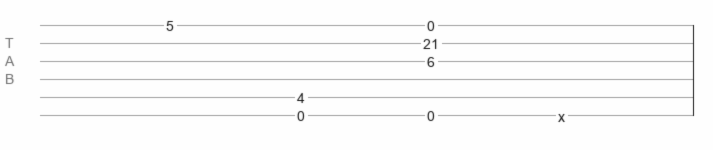0: (297, 108, 305, 118), (427, 18, 435, 28), (427, 108, 435, 118)
21: (423, 36, 439, 46)
4: (297, 90, 305, 100)
5: (166, 18, 174, 28)
6: (427, 54, 435, 64)
x: (558, 109, 565, 117)
